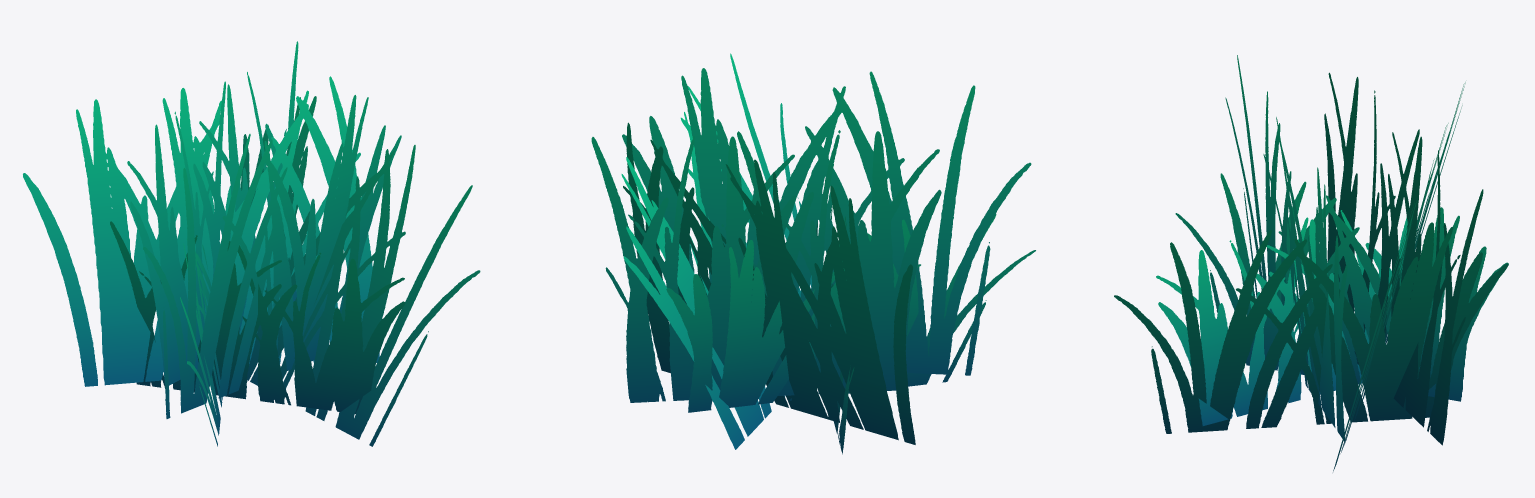
File: GrassClump.glb
3 views of the same model, side by side, from view 1: azimuth 30°, elevation 25°; view 2: azimuth 150°, elevation 25°; view 3: azimuth 270°, elevation 25° (orthographic). The views are drawn at different scales.
Visible parts, largest first — view 1: SM_LowResGrassClump; view 2: SM_LowResGrassClump; view 3: SM_LowResGrassClump.
Part boxes in pixels (<box>): SM_LowResGrassClump: <box>23,41,480,446</box>; SM_LowResGrassClump: <box>591,53,1035,454</box>; SM_LowResGrassClump: <box>1114,55,1508,471</box>.
Bounding box in the file's own units: 1.06 × 0.8606 × 1.03.
Materials: 3 (3 with a texture image).
